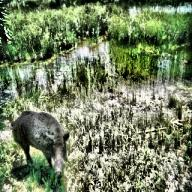boar: (9, 109, 68, 177)
